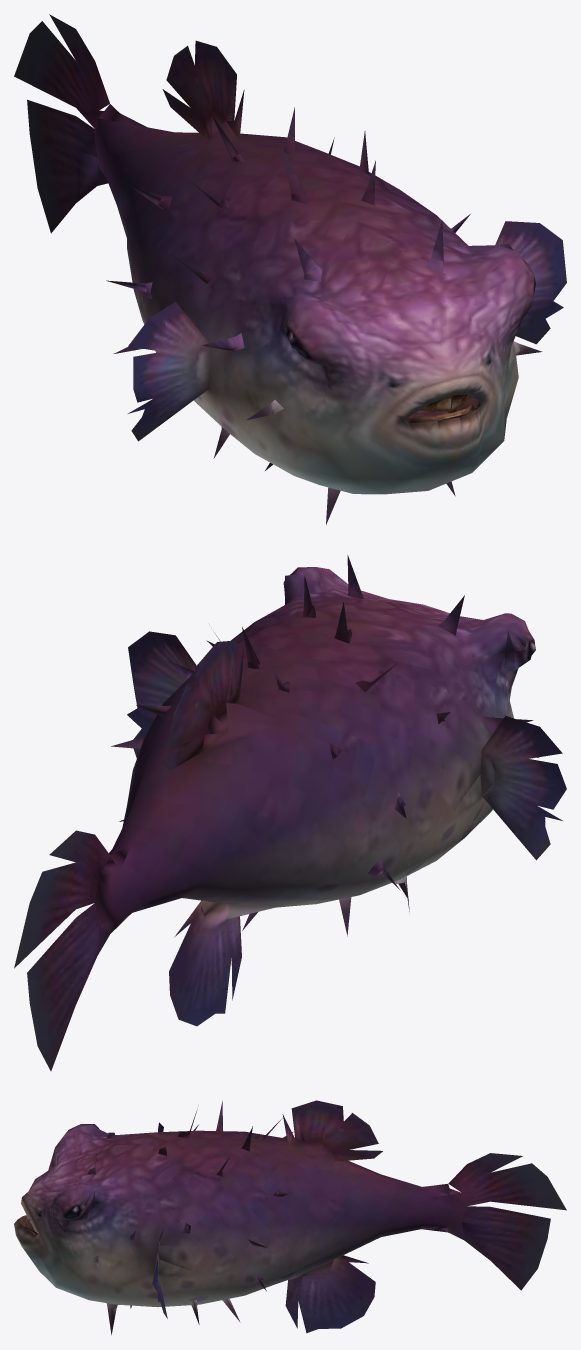
The model's file is puffer.glb.
The picture shows the model from 3 angles, top to bottom: view 1: azimuth 30°, elevation 25°; view 2: azimuth 150°, elevation 25°; view 3: azimuth 270°, elevation 25°; orthographic projection. The views are drawn at different scales.
Parts seen in each view (by area): view 1: node-0; view 2: node-0; view 3: node-0.
Part boxes in pixels (x1,y1,x2,y2): node-0: (14,14,566,524); node-0: (14,555,566,1071); node-0: (14,1100,566,1335).
Size of what is drawn, in the model's own units: 18.12 by 14.95 by 32.16.
1 material, 1 textured.
